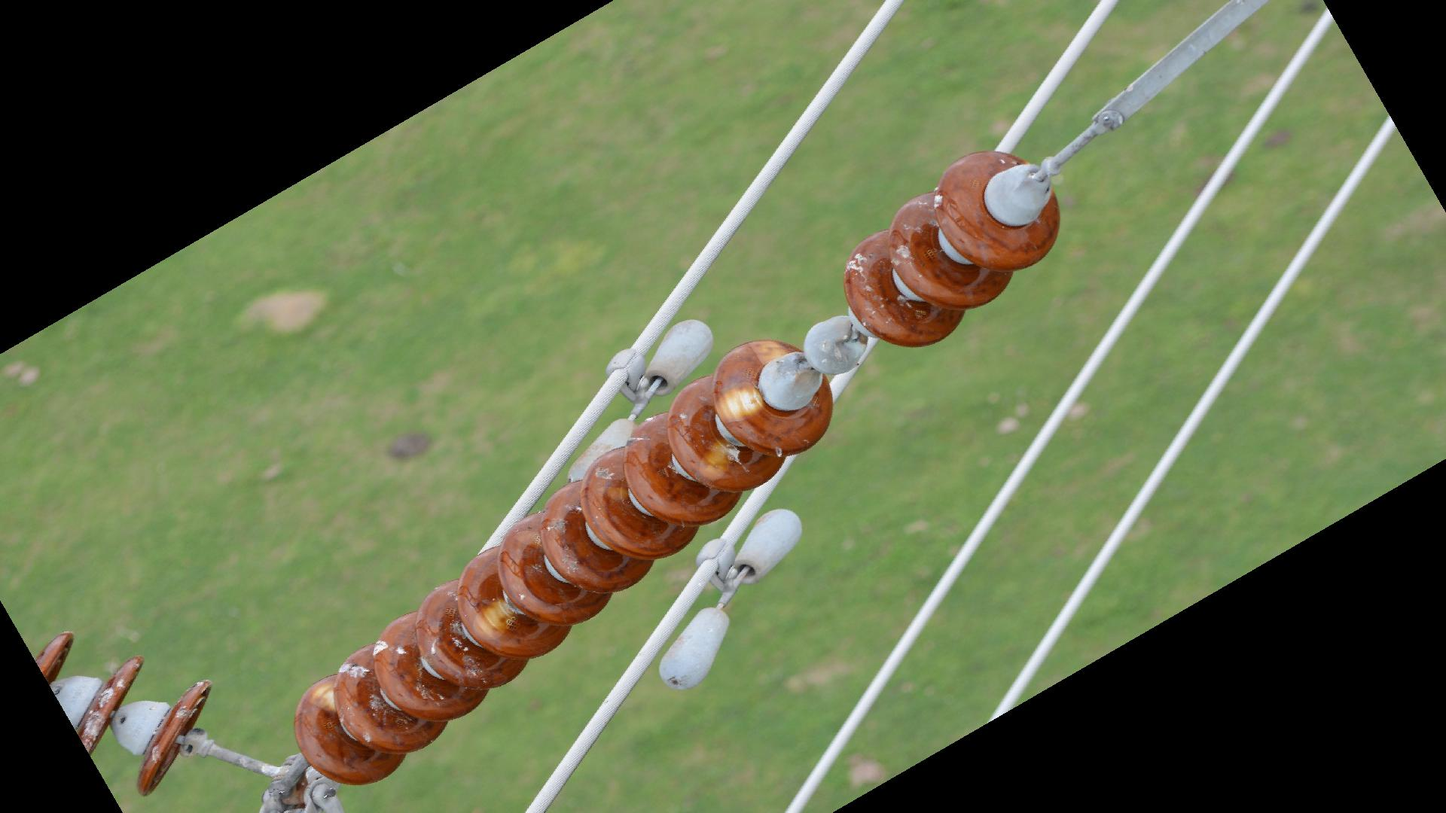insulator: (287, 335, 836, 792), (838, 142, 1065, 354), (26, 626, 218, 801)
insulator_flashover: (469, 597, 517, 645), (712, 382, 765, 425), (695, 437, 737, 488), (302, 676, 340, 717)
